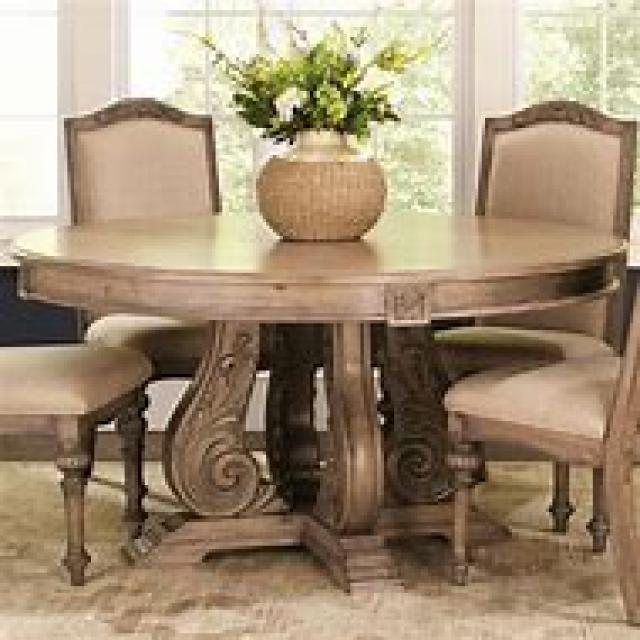chair: (438, 223, 637, 626)
table: (6, 206, 636, 590)
